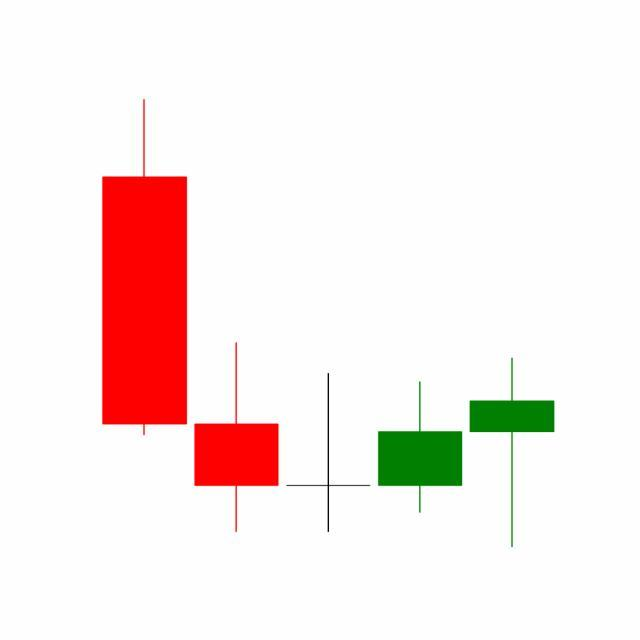Spinning Top: (466, 356, 559, 551)
